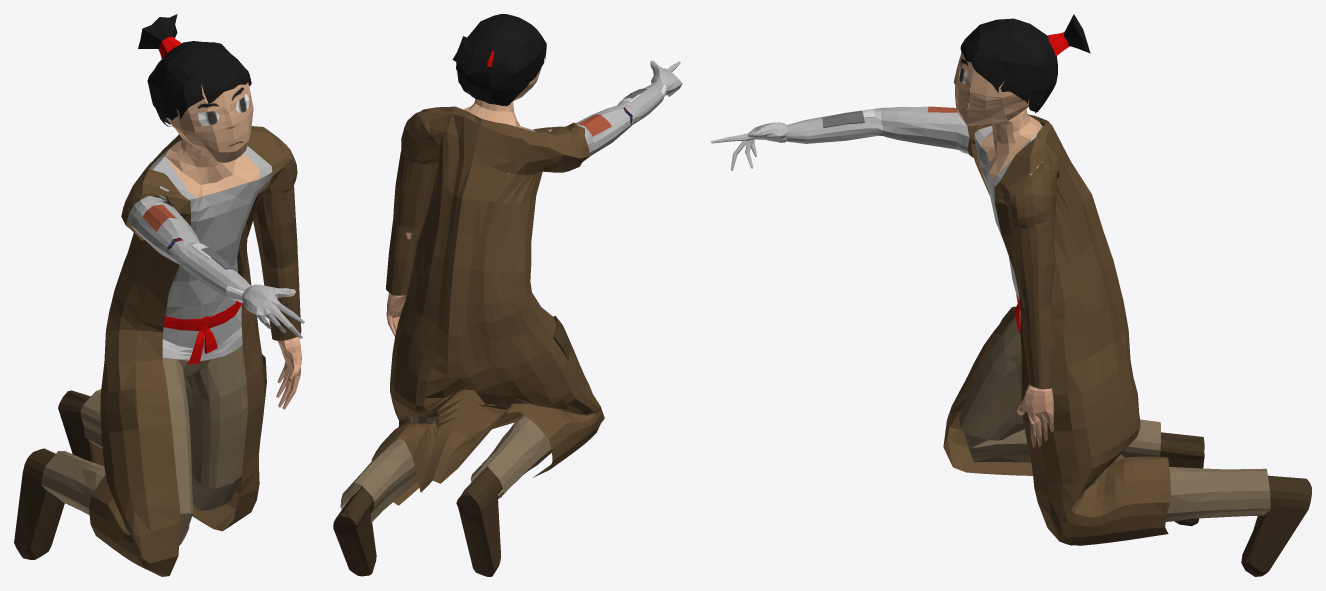
The model's file is One_Die_000027.obj.
3 renders of one model, left to right at view 1: azimuth 30°, elevation 25°; view 2: azimuth 150°, elevation 25°; view 3: azimuth 270°, elevation 25°, orthographic. The views are drawn at different scales.
Parts seen in each view (by area): view 1: Hair_Cube.004; view 2: Hair_Cube.004; view 3: Hair_Cube.004.
Part boxes in pixels (bbox=[...]): Hair_Cube.004: bbox=[14, 14, 304, 576]; Hair_Cube.004: bbox=[333, 14, 682, 576]; Hair_Cube.004: bbox=[711, 14, 1311, 576].
Size of the model in its own units: 1.17 by 3.03 by 3.04.
